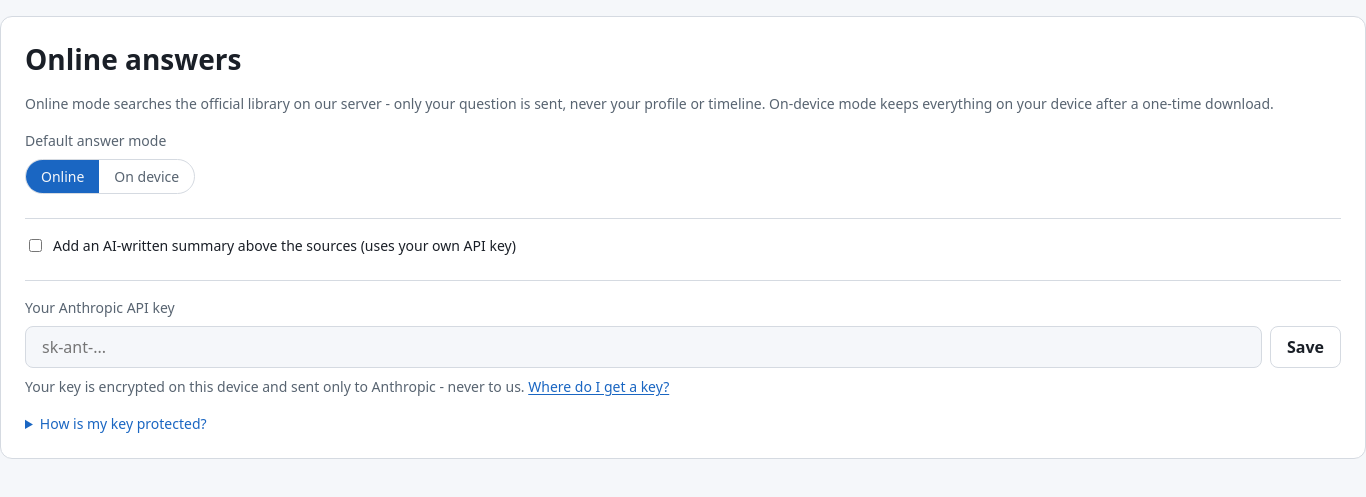
Scenario: OnlineAnswersPanel › when the key cannot be saved or removed › says so under the row and leaves the key field empty when saving the key fails
The image size is (1366, 497).
Type "sk-ant-secret" into the password field with class "online-key__input" at (644, 347), box left=25, top=326, right=1262, bottom=368
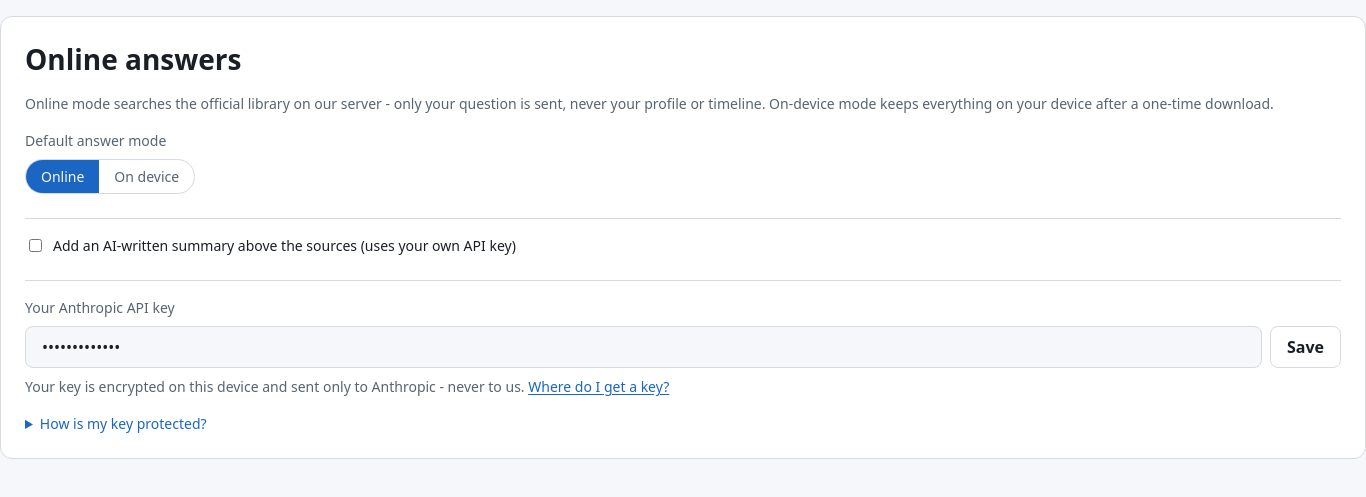
Click the button with class "online-key__save" at (1306, 347), box left=1270, top=326, right=1341, bottom=368
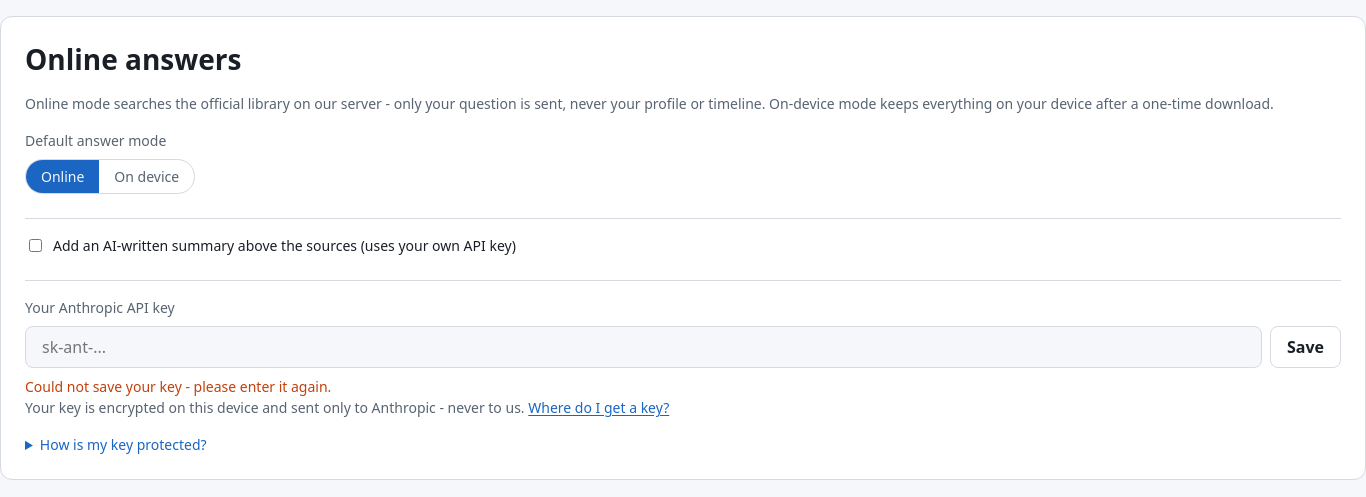
expect the message with class "online-key__error" reads "Could not save your key - please enter it again.": met, box left=25, top=377, right=331, bottom=396
expect the password field with class "online-key__input" is empty: met, box left=25, top=326, right=1262, bottom=368
